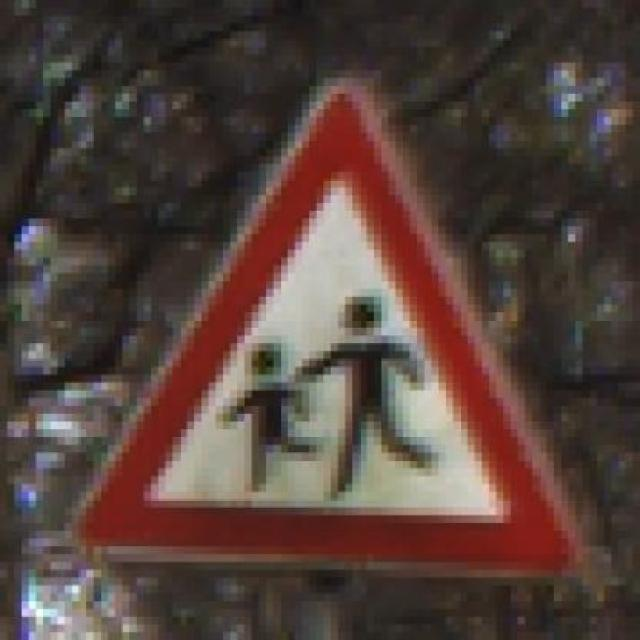Beware of children: (65, 54, 604, 586)
